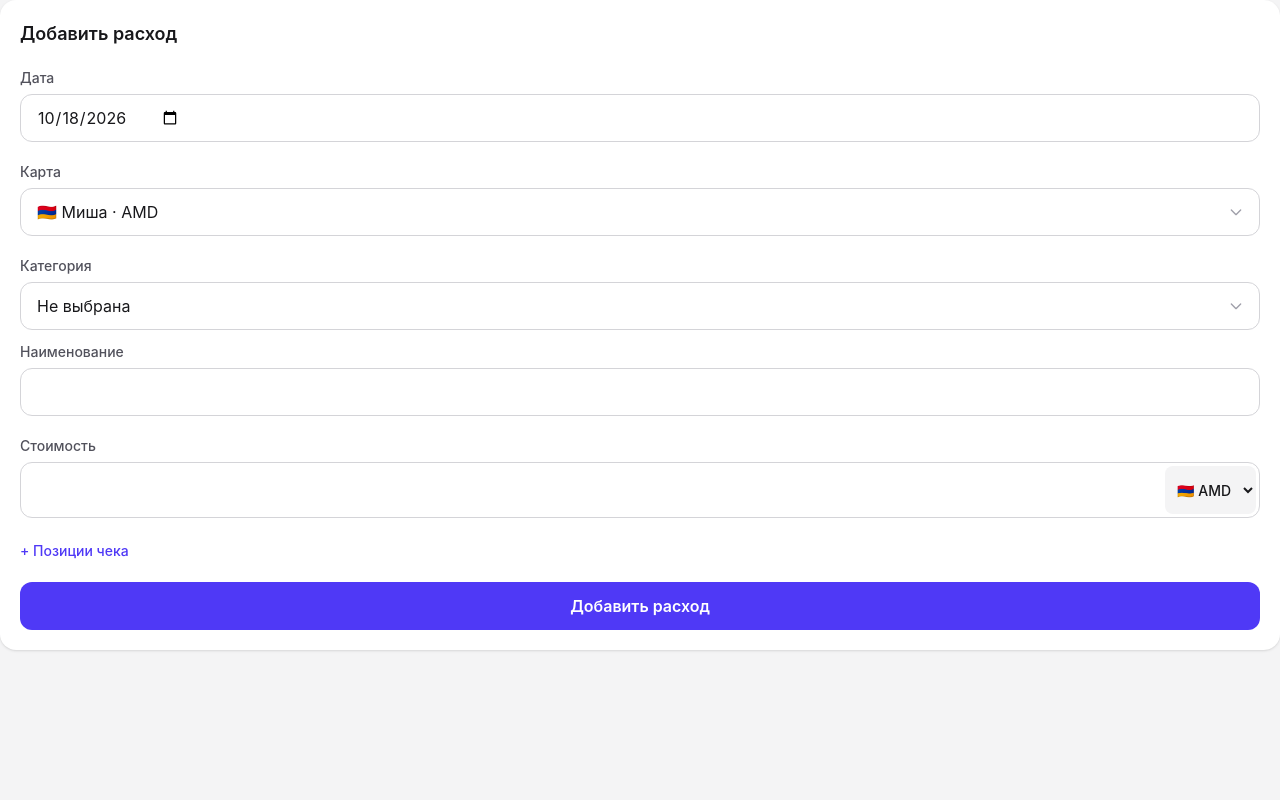
Test: выбор карты › одно поле «Карта»: флаг, название и код валюты; выбранная показана в поле
The image size is (1280, 800).
Expected: the button "Добавить расход" is shown, [20,582,1260,630]
Select "🇺🇸 Доллары · USD" in the dropdown labelled "Карта" at (640,212), box [20,188,1260,236]
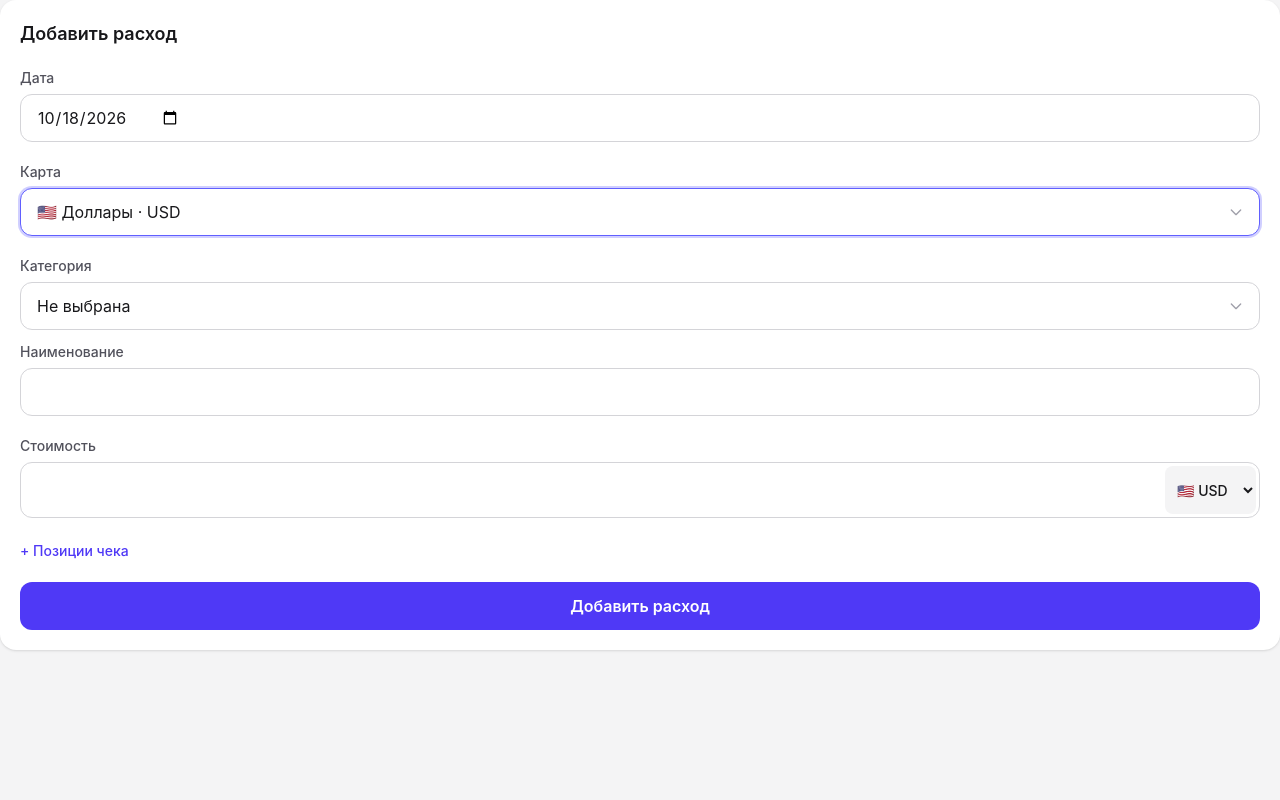
Now the dropdown named "Валюта" shows "🇺🇸 USD", box [1165,466,1256,514]
